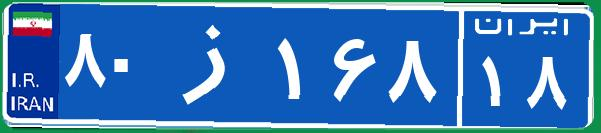0: (110, 28, 158, 105)
1: (273, 28, 330, 110), (475, 38, 525, 113)
6: (330, 28, 385, 110)
8: (385, 28, 445, 110), (57, 26, 110, 107), (525, 38, 570, 115)
ز: (158, 15, 273, 115)
